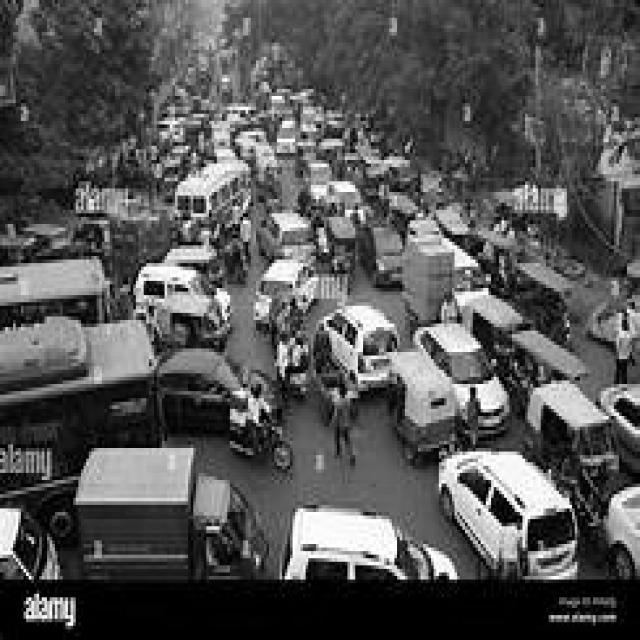Auto: (525, 379, 612, 469), (391, 349, 459, 453), (155, 293, 230, 346), (462, 296, 520, 328)
Bus: (0, 259, 159, 489)
Car: (441, 451, 578, 581), (282, 507, 459, 581), (414, 323, 509, 436), (160, 347, 244, 431), (254, 213, 316, 324), (324, 305, 398, 390), (135, 264, 230, 321), (604, 485, 640, 579), (245, 375, 273, 401)
Two Wheeler: (229, 371, 284, 455), (230, 398, 292, 470), (351, 267, 409, 343)
